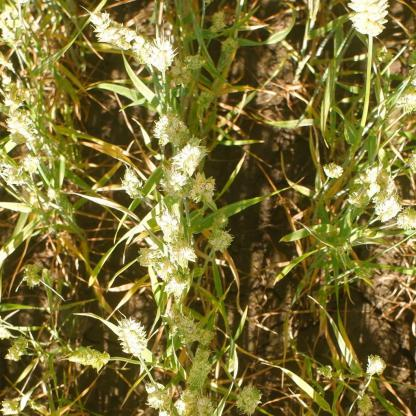whd: (90, 11, 136, 50), (347, 0, 389, 37), (173, 139, 208, 177), (116, 318, 147, 357), (154, 114, 190, 146), (66, 347, 110, 370), (6, 110, 34, 145), (148, 36, 175, 70), (168, 238, 197, 268), (235, 386, 262, 414), (119, 168, 144, 198), (162, 170, 188, 198), (374, 194, 400, 222), (191, 173, 215, 203), (158, 212, 181, 243), (145, 383, 171, 410), (186, 359, 210, 387), (175, 388, 197, 416), (136, 247, 166, 267), (132, 36, 152, 66), (172, 59, 192, 88), (208, 229, 232, 252), (164, 275, 188, 297), (396, 88, 416, 114), (178, 315, 196, 343), (153, 261, 177, 281), (163, 308, 182, 333), (366, 353, 386, 376), (357, 166, 380, 186), (2, 166, 26, 185), (347, 188, 371, 207), (396, 208, 416, 230), (376, 170, 395, 193), (23, 265, 41, 287), (6, 82, 28, 100), (196, 396, 215, 416), (0, 397, 21, 415), (20, 154, 38, 174), (4, 347, 29, 361), (323, 162, 344, 178), (197, 327, 215, 345), (357, 394, 373, 414), (184, 54, 206, 68), (3, 93, 20, 111), (197, 91, 214, 108), (211, 11, 226, 30), (0, 52, 14, 72), (219, 39, 238, 53), (316, 365, 333, 380), (375, 48, 392, 63), (1, 25, 15, 43), (358, 266, 374, 279), (12, 336, 29, 348), (214, 214, 228, 228), (47, 186, 60, 200), (193, 349, 209, 360), (408, 65, 416, 86), (0, 326, 11, 340), (408, 148, 416, 164), (408, 50, 415, 66), (409, 157, 416, 171), (342, 243, 352, 251), (13, 0, 30, 4), (202, 0, 214, 4)
